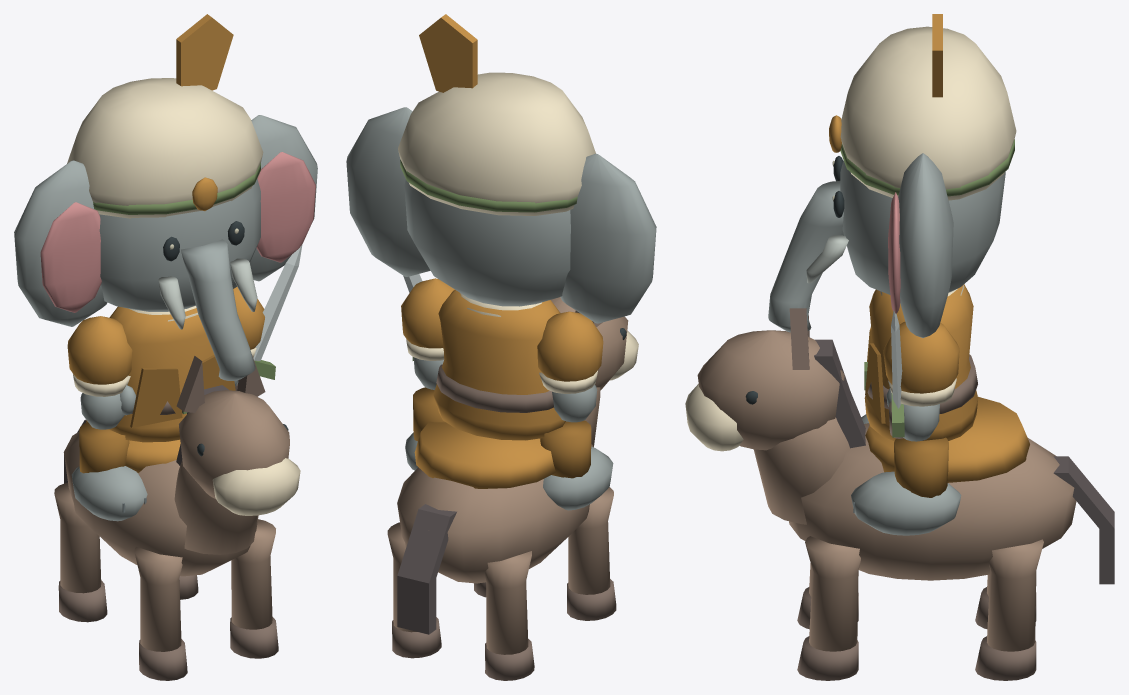
Rendered from rider.glb.
The picture shows the model from 3 angles, left to right: view 1: azimuth 30°, elevation 25°; view 2: azimuth 150°, elevation 25°; view 3: azimuth 270°, elevation 25°; orthographic projection. The views are drawn at different scales.
Parts seen in each view (by area): view 1: Layered cloth turban, Animal cheek head, Pony head, Plump pony body, Elephant broad ear, Short folded tunic, Curved elephant trunk, Elephant ear lining, Elephant ear lining.001, Pony neck, Pony stubby leg, Pony stubby leg.001 (+23 smaller); view 2: Layered cloth turban, Animal cheek head, Short folded tunic, Plump pony body, Elephant broad ear, Elephant broad ear.001, Saddle blanket, Pony tail, Pony stubby leg.002, Puff sleeve, Pony stubby leg, Turban fan (+16 smaller); view 3: Layered cloth turban, Plump pony body, Pony head, Animal cheek head, Elephant broad ear.001, Pony neck, Saddle blanket, Pony stubby leg.001, Pony stubby leg.003, Short folded tunic, Curved elephant trunk, Soft animal paw.001 (+17 smaller).
Part boxes in pixels (<box>): Layered cloth turban: <box>67,78,263,218</box>; Animal cheek head: <box>99,179,260,311</box>; Pony head: <box>179,390,289,498</box>; Plump pony body: <box>63,432,258,576</box>; Elephant broad ear: <box>14,160,107,326</box>; Short folded tunic: <box>108,306,214,442</box>; Curved elephant trunk: <box>181,239,255,380</box>; Elephant ear lining: <box>40,202,101,312</box>; Elephant ear lining.001: <box>256,152,315,262</box>; Pony neck: <box>174,460,257,554</box>; Pony stubby leg: <box>134,547,182,651</box>; Pony stubby leg.001: <box>231,519,275,629</box>; Layered cloth turban: <box>398,72,595,215</box>; Animal cheek head: <box>404,180,570,306</box>; Short folded tunic: <box>433,290,565,440</box>; Plump pony body: <box>397,444,593,583</box>; Elephant broad ear: <box>560,153,656,323</box>; Elephant broad ear.001: <box>346,107,430,276</box>; Saddle blanket: <box>414,421,555,488</box>; Pony tail: <box>397,504,456,634</box>; Pony stubby leg.002: <box>484,551,531,654</box>; Puff sleeve: <box>537,311,603,381</box>; Pony stubby leg: <box>568,487,613,594</box>; Turban fan: <box>419,14,477,92</box>; Layered cloth turban: <box>840,26,1016,200</box>; Plump pony body: <box>789,423,1076,580</box>; Pony head: <box>697,330,844,450</box>; Animal cheek head: <box>840,160,1005,294</box>; Elephant broad ear.001: <box>898,153,953,337</box>; Pony neck: <box>753,417,849,524</box>; Saddle blanket: <box>865,396,1029,482</box>; Pony stubby leg.001: <box>805,536,860,651</box>; Pony stubby leg.003: <box>987,539,1043,651</box>; Short folded tunic: <box>864,284,977,440</box>; Curved elephant trunk: <box>768,180,843,332</box>; Soft animal paw.001: <box>851,471,961,535</box>.
Size of the model in its own units: 1.26 by 2.37 by 1.4.
